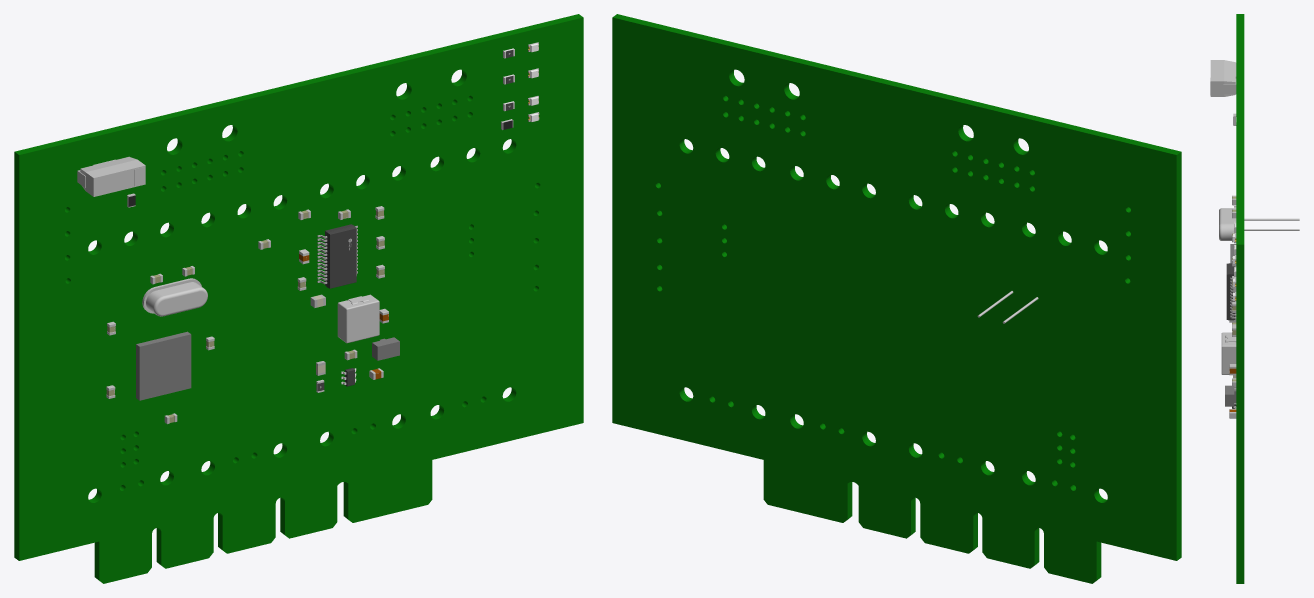
The model's file is thruster-board.glb.
The picture shows the model from 3 angles, left to right: view 1: azimuth 30°, elevation 25°; view 2: azimuth 150°, elevation 25°; view 3: azimuth 270°, elevation 25°; orthographic projection. The views are drawn at different scales.
Parts seen in each view (by area): view 1: empty_2, empty_139, empty_16, empty_6, empty_64, empty_129; view 2: empty_2; view 3: empty_2, empty_64, empty_129, empty_6, empty_16, empty_7, empty_66, empty_141.
Boxes of the visible parts, x1=… form: empty_2: x1=14, y1=14, x2=583, y2=583; empty_139: x1=136, y1=331, x2=191, y2=400; empty_16: x1=325, y1=224, x2=356, y2=288; empty_6: x1=142, y1=278, x2=207, y2=316; empty_64: x1=80, y1=156, x2=145, y2=196; empty_129: x1=337, y1=294, x2=379, y2=343; empty_2: x1=612, y1=14, x2=1181, y2=583; empty_2: x1=1236, y1=14, x2=1244, y2=583; empty_64: x1=1210, y1=60, x2=1236, y2=96; empty_129: x1=1221, y1=332, x2=1236, y2=374; empty_6: x1=1219, y1=206, x2=1236, y2=243; empty_16: x1=1226, y1=263, x2=1235, y2=320; empty_7: x1=1244, y1=218, x2=1299, y2=220; empty_66: x1=1223, y1=79, x2=1236, y2=94; empty_141: x1=1225, y1=391, x2=1234, y2=406.
Size of the model in its own units: 109 by 83.31 by 17.96.
